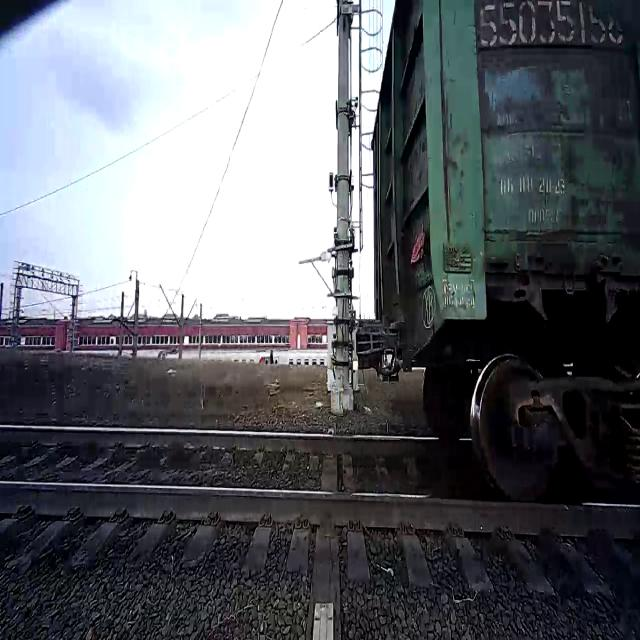gondola: (367, 0, 640, 519)
